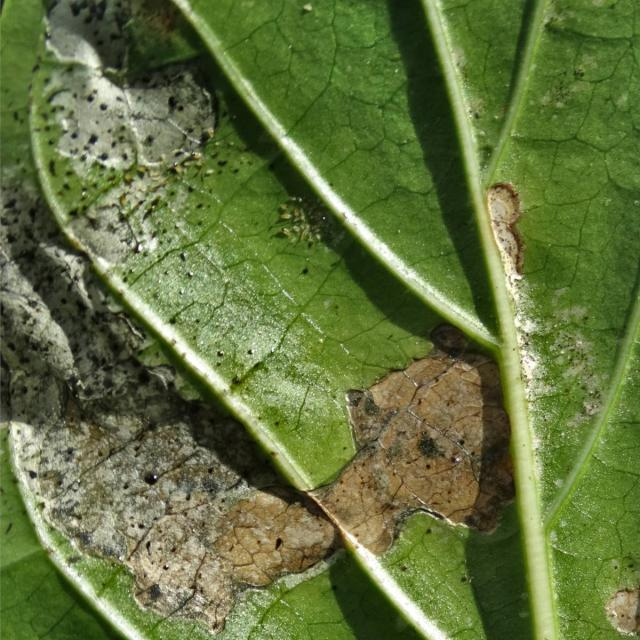Thrips: (22, 27, 529, 614)
